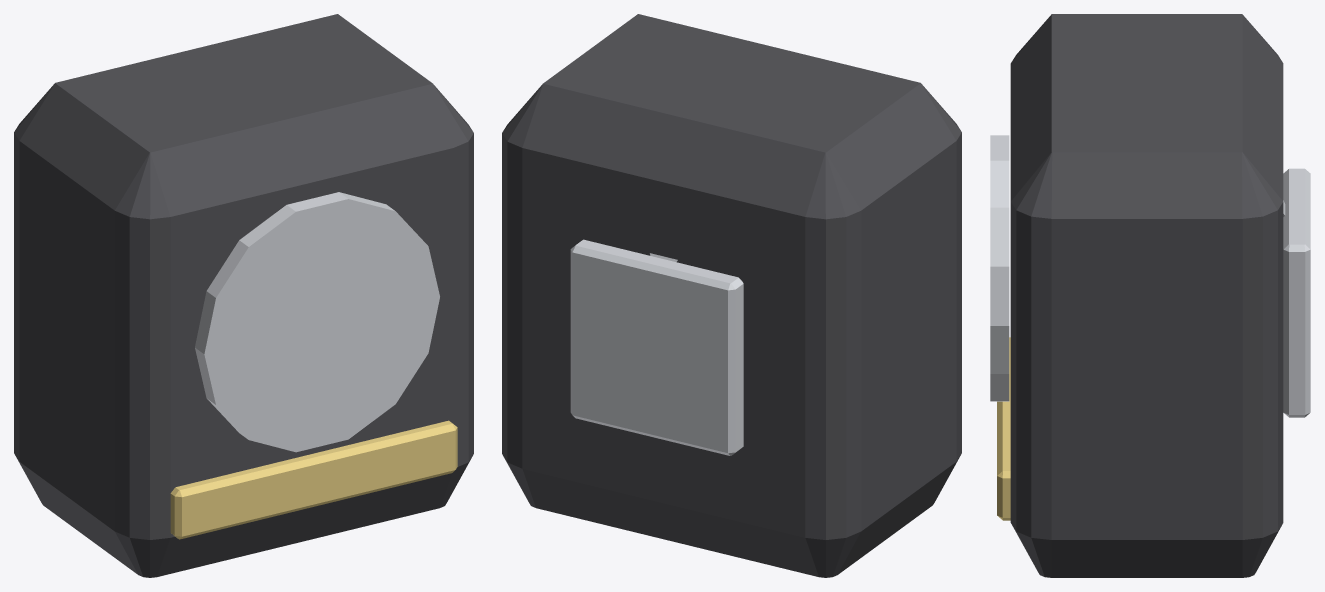
The model's file is theatre-stage-and-backstage-tannoy-speaker-efacfc9d.glb.
3 renders of one model, left to right at view 1: azimuth 30°, elevation 25°; view 2: azimuth 150°, elevation 25°; view 3: azimuth 270°, elevation 25°, orthographic.
Parts seen in each view (by area): view 1: tannoy-speaker; view 2: tannoy-speaker; view 3: tannoy-speaker.
Part boxes in pixels (x1,y1,x2,y2): tannoy-speaker: (14, 14, 473, 577); tannoy-speaker: (502, 14, 961, 577); tannoy-speaker: (990, 14, 1310, 577).
Bounding box in the file's own units: 0.3 × 0.34 × 0.235.
